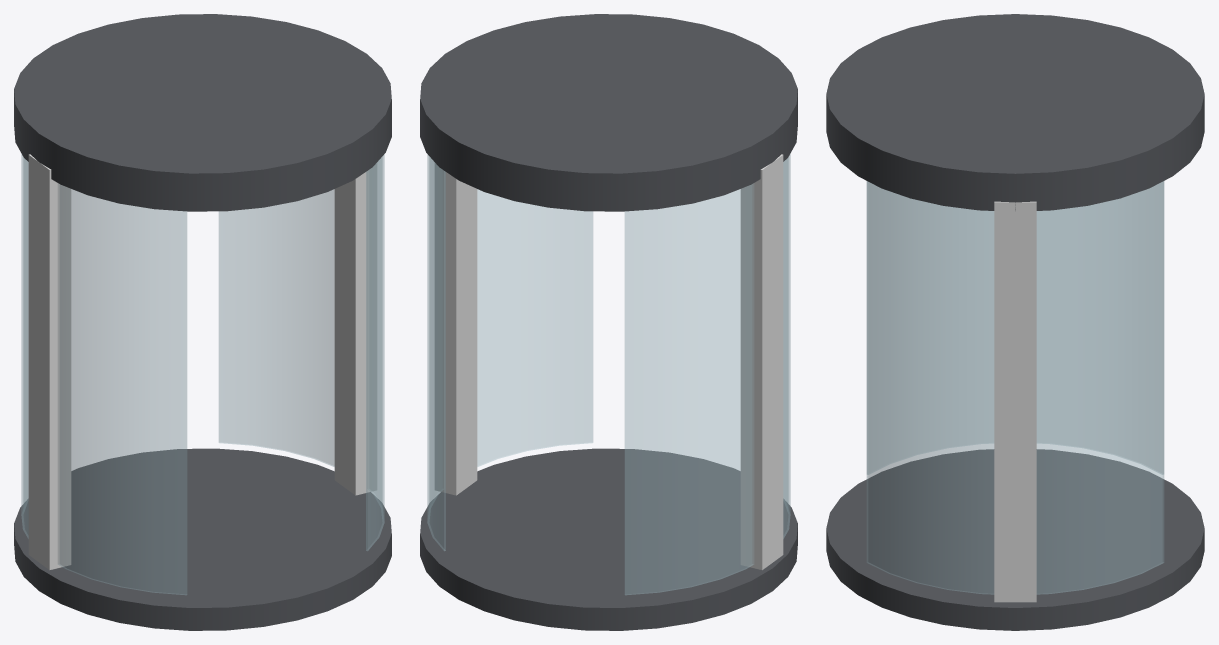
Rendered from airport.security.body_scanner.glb.
3 views of the same model, side by side, from view 1: azimuth 30°, elevation 25°; view 2: azimuth 150°, elevation 25°; view 3: azimuth 270°, elevation 25° (orthographic).
Parts seen in each view (by area): view 1: main__plastic_grey, main__glass, main__plastic_white; view 2: main__plastic_grey, main__glass, main__plastic_white; view 3: main__plastic_grey, main__glass, main__plastic_white.
Boxes of the visible parts, x1,y1,x2,y2 form: main__plastic_grey: (14, 14, 391, 630); main__glass: (21, 154, 384, 594); main__plastic_white: (28, 154, 376, 570); main__plastic_grey: (420, 14, 797, 630); main__glass: (427, 154, 790, 594); main__plastic_white: (435, 154, 783, 570); main__plastic_grey: (826, 14, 1204, 630); main__glass: (866, 181, 1164, 594); main__plastic_white: (994, 201, 1036, 602).
Size of the model in its own units: 1.8 by 2.4 by 1.8.
